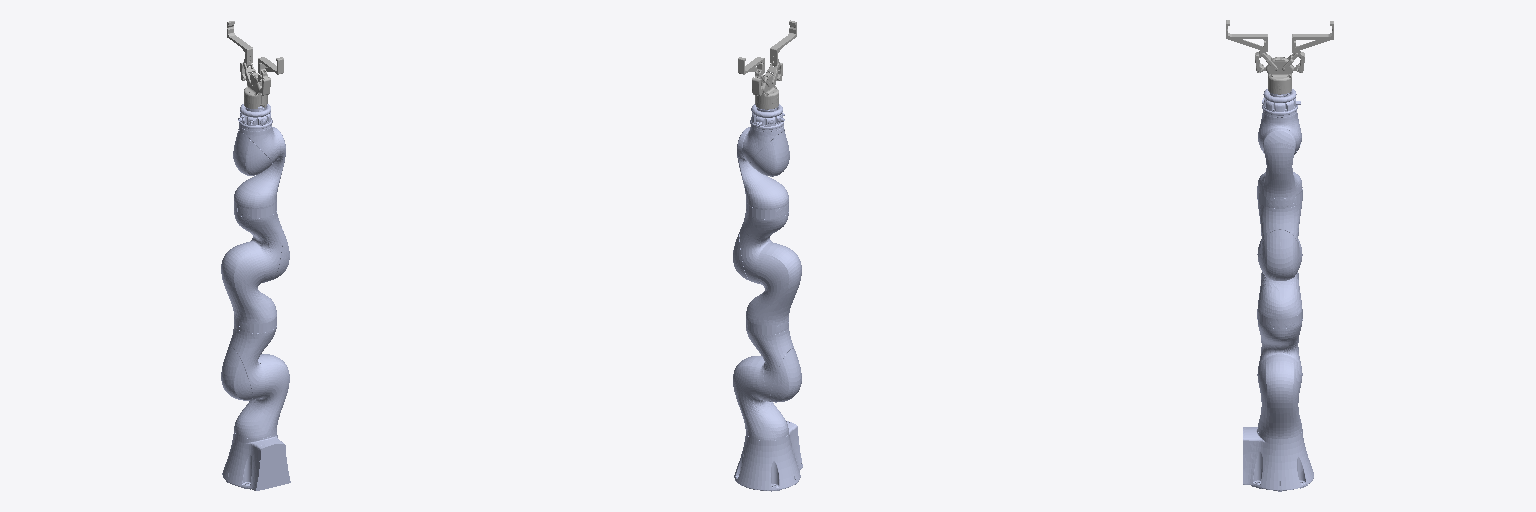
robot.urdf — KUKA_URDF_Version_5:
<?xml version="1.0" encoding="utf-8"?>
<!-- This URDF was automatically created by SolidWorks to URDF Exporter! Originally created by [author] ([email redacted]) 
     Commit Version: 1.6.0-4-g7f85cfe  Build Version: 1.6.7995.38578
     For more information, please see http://wiki.ros.org/sw_urdf_exporter -->
<robot
  name="KUKA_URDF_Version_5">
  <link
    name="base_link">
    <inertial>
      <origin
        xyz="-8.23511737919704E-07 -0.0128365621074739 0.0701068698449948"
        rpy="0 0 0" />
      <mass
        value="3.86292001643786" />
      <inertia
        ixx="0.0177650213764454"
        ixy="-1.27172130085026E-07"
        ixz="4.66194331164664E-08"
        iyy="0.0142249734163389"
        iyz="0.000612834486375344"
        izz="0.0169622498530289" />
    </inertial>
    <visual>
      <origin
        xyz="0 0 0"
        rpy="0 0 0" />
      <geometry>
        <mesh
          filename="package://KUKA_URDF_Version_5/meshes/base_link.STL" />
      </geometry>
      <material
        name="">
        <color
          rgba="0.792156862745098 0.819607843137255 0.933333333333333 1" />
      </material>
    </visual>
    <collision>
      <origin
        xyz="0 0 0"
        rpy="0 0 0" />
      <geometry>
        <mesh
          filename="package://KUKA_URDF_Version_5/meshes/base_link.STL" />
      </geometry>
    </collision>
  </link>
  <link
    name="link_1">
    <inertial>
      <origin
        xyz="-1.47182007628141E-06 -0.0347314368201785 0.123513666495531"
        rpy="0 0 0" />
      <mass
        value="2.70245661022576" />
      <inertia
        ixx="0.017086841210477"
        ixy="-2.89501394873082E-08"
        ixz="1.53941511679728E-07"
        iyy="0.0163002926165472"
        iyz="0.0030424390883859"
        izz="0.00602934030894992" />
    </inertial>
    <visual>
      <origin
        xyz="0 0 0"
        rpy="0 0 0" />
      <geometry>
        <mesh
          filename="package://KUKA_URDF_Version_5/meshes/link_1.STL" />
      </geometry>
      <material
        name="">
        <color
          rgba="0.792156862745098 0.819607843137255 0.933333333333333 1" />
      </material>
    </visual>
    <collision>
      <origin
        xyz="0 0 0"
        rpy="0 0 0" />
      <geometry>
        <mesh
          filename="package://KUKA_URDF_Version_5/meshes/link_1.STL" />
      </geometry>
    </collision>
  </link>
  <joint
    name="joint_1"
    type="continuous">
    <origin
      xyz="0 0 0.1475"
      rpy="0 0 1.5707963267949" />
    <parent
      link="base_link" />
    <child
      link="link_1" />
    <axis
      xyz="0 0 1" />
    <limit
      lower="-2.96706"
      upper="2.96706"
      effort="0"
      velocity="1.71042" />
  </joint>
  <link
    name="link_2">
    <inertial>
      <origin
        xyz="-9.85946206589125E-07 -0.0673264797866535 0.0339139236736676"
        rpy="0 0 0" />
      <mass
        value="2.72576490761316" />
      <inertia
        ixx="0.0170487827766729"
        ixy="5.60454060066105E-08"
        ixz="-1.94352744885993E-10"
        iyy="0.00609559579437958"
        iyz="-0.00283688835257612"
        izz="0.0162453385231183" />
    </inertial>
    <visual>
      <origin
        xyz="0 0 0"
        rpy="0 0 0" />
      <geometry>
        <mesh
          filename="package://KUKA_URDF_Version_5/meshes/link_2.STL" />
      </geometry>
      <material
        name="">
        <color
          rgba="0.792156862745098 0.819607843137255 0.933333333333333 1" />
      </material>
    </visual>
    <collision>
      <origin
        xyz="0 0 0"
        rpy="0 0 0" />
      <geometry>
        <mesh
          filename="package://KUKA_URDF_Version_5/meshes/link_2.STL" />
      </geometry>
    </collision>
  </link>
  <joint
    name="joint_2"
    type="continuous">
    <origin
      xyz="0 0 0.193"
      rpy="-1.5707963267949 0 0" />
    <parent
      link="link_1" />
    <child
      link="link_2" />
    <axis
      xyz="0 0 1" />
    <limit
      lower="-2.0944"
      upper="2.0944"
      effort="0"
      velocity="1.71042" />
  </joint>
  <link
    name="link_3">
    <inertial>
      <origin
        xyz="5.90496277472626E-07 0.029563717059354 0.136503448756891"
        rpy="0 0 0" />
      <mass
        value="3.1751416773228" />
      <inertia
        ixx="0.0250787626796888"
        ixy="-7.66221359011273E-08"
        ixz="-1.82817176844778E-07"
        iyy="0.0238075491469019"
        iyz="-0.00487390685916508"
        izz="0.00760816812680929" />
    </inertial>
    <visual>
      <origin
        xyz="0 0 0"
        rpy="0 0 0" />
      <geometry>
        <mesh
          filename="package://KUKA_URDF_Version_5/meshes/link_3.STL" />
      </geometry>
      <material
        name="">
        <color
          rgba="0.792156862745098 0.819607843137255 0.933333333333333 1" />
      </material>
    </visual>
    <collision>
      <origin
        xyz="0 0 0"
        rpy="0 0 0" />
      <geometry>
        <mesh
          filename="package://KUKA_URDF_Version_5/meshes/link_3.STL" />
      </geometry>
    </collision>
  </link>
  <joint
    name="joint_3"
    type="continuous">
    <origin
      xyz="0 -0.174 -0.000500000000000045"
      rpy="1.5707963267949 0 0" />
    <parent
      link="link_2" />
    <child
      link="link_3" />
    <axis
      xyz="0 0 1" />
    <limit
      lower="-2.9671"
      upper="2.9671"
      effort="0"
      velocity="1.7453" />
  </joint>
  <link
    name="link_4">
    <inertial>
      <origin
        xyz="2.85160321169215E-07 -0.0673270391679657 -0.0339138366460867"
        rpy="0 0 0" />
      <mass
        value="2.72574899351326" />
      <inertia
        ixx="0.0170488238575106"
        ixy="-6.10054669103315E-08"
        ixz="-5.7830902318856E-08"
        iyy="0.0060955422460185"
        iyz="0.00283688215271815"
        izz="0.0162452690943062" />
    </inertial>
    <visual>
      <origin
        xyz="0 0 0"
        rpy="0 0 0" />
      <geometry>
        <mesh
          filename="package://KUKA_URDF_Version_5/meshes/link_4.STL" />
      </geometry>
      <material
        name="">
        <color
          rgba="0.792156862745098 0.819607843137255 0.933333333333333 1" />
      </material>
    </visual>
    <collision>
      <origin
        xyz="0 0 0"
        rpy="0 0 0" />
      <geometry>
        <mesh
          filename="package://KUKA_URDF_Version_5/meshes/link_4.STL" />
      </geometry>
    </collision>
  </link>
  <joint
    name="joint_4"
    type="continuous">
    <origin
      xyz="0 0 0.2255"
      rpy="-1.5707963267949 0 0" />
    <parent
      link="link_3" />
    <child
      link="link_4" />
    <axis
      xyz="0 0 1" />
    <limit
      lower="-2.0944"
      upper="2.0944"
      effort="0"
      velocity="2.26893" />
  </joint>
  <link
    name="link_5">
    <inertial>
      <origin
        xyz="-0.000427104481119387 -0.021382184721028 0.0854689468847926"
        rpy="0 0 0" />
      <mass
        value="1.6938479313783" />
      <inertia
        ixx="0.010079022635319"
        ixy="-2.75052565659249E-05"
        ixz="6.17284433693558E-05"
        iyy="0.00870363537142671"
        iyz="0.00308995793269608"
        izz="0.00446948977776789" />
    </inertial>
    <visual>
      <origin
        xyz="0 0 0"
        rpy="0 0 0" />
      <geometry>
        <mesh
          filename="package://KUKA_URDF_Version_5/meshes/link_5.STL" />
      </geometry>
      <material
        name="">
        <color
          rgba="0.792156862745098 0.819607843137255 0.933333333333333 1" />
      </material>
    </visual>
    <collision>
      <origin
        xyz="0 0 0"
        rpy="0 0 0" />
      <geometry>
        <mesh
          filename="package://KUKA_URDF_Version_5/meshes/link_5.STL" />
      </geometry>
    </collision>
  </link>
  <joint
    name="joint_5"
    type="continuous">
    <origin
      xyz="0 -0.174 0.000500000000000067"
      rpy="1.5707963267949 0 0" />
    <parent
      link="link_4" />
    <child
      link="link_5" />
    <axis
      xyz="0 0 1" />
    <limit
      lower="-2.9671"
      upper="2.9671"
      effort="0"
      velocity="2.4435" />
  </joint>
  <link
    name="link_6">
    <inertial>
      <origin
        xyz="-3.62267929758693E-05 0.00212095815879487 0.000210767560785248"
        rpy="0 0 0" />
      <mass
        value="1.83671422431897" />
      <inertia
        ixx="0.00509405014866571"
        ixy="2.51774001619867E-05"
        ixz="4.01311200153297E-06"
        iyy="0.00354310566820398"
        iyz="-0.000249594236575303"
        izz="0.00489903878590526" />
    </inertial>
    <visual>
      <origin
        xyz="0 0 0"
        rpy="0 0 0" />
      <geometry>
        <mesh
          filename="package://KUKA_URDF_Version_5/meshes/link_6.STL" />
      </geometry>
      <material
        name="">
        <color
          rgba="0.792156862745098 0.819607843137255 0.933333333333333 1" />
      </material>
    </visual>
    <collision>
      <origin
        xyz="0 0 0"
        rpy="0 0 0" />
      <geometry>
        <mesh
          filename="package://KUKA_URDF_Version_5/meshes/link_6.STL" />
      </geometry>
    </collision>
  </link>
  <joint
    name="joint_6"
    type="continuous">
    <origin
      xyz="0 0 0.2255"
      rpy="1.5707963267949 0.0162613743878159 -0.0199582716554755" />
    <parent
      link="link_5" />
    <child
      link="link_6" />
    <axis
      xyz="0 0 1" />
    <limit
      lower="-2.0944"
      upper="2.0944"
      effort="0"
      velocity="3.14159" />
  </joint>
  <link
    name="link_7">
    <inertial>
      <origin
        xyz="-0.000350586782875326 0.000200324434634181 0.031832643949022"
        rpy="0 0 0" />
      <mass
        value="0.468707260148188" />
      <inertia
        ixx="0.000455200479364619"
        ixy="3.82414069564461E-07"
        ixz="4.12608825148657E-06"
        iyy="0.000456724145763562"
        iyz="3.95523025788467E-08"
        izz="0.000586696994250743" />
    </inertial>
    <visual>
      <origin
        xyz="0 0 0"
        rpy="0 0 0" />
      <geometry>
        <mesh
          filename="package://KUKA_URDF_Version_5/meshes/link_7.STL" />
      </geometry>
      <material
        name="">
        <color
          rgba="0.792156862745098 0.819607843137255 0.933333333333333 1" />
      </material>
    </visual>
    <collision>
      <origin
        xyz="0 0 0"
        rpy="0 0 0" />
      <geometry>
        <mesh
          filename="package://KUKA_URDF_Version_5/meshes/link_7.STL" />
      </geometry>
    </collision>
  </link>
  <joint
    name="joint_7"
    type="continuous">
    <origin
      xyz="-0.00130735688110192 0.0803893700559062 0.000700000000000073"
      rpy="-1.5707963267949 0.0199582716554755 0.0162613743878159" />
    <parent
      link="link_6" />
    <child
      link="link_7" />
    <axis
      xyz="0 0 1" />
    <limit
      lower="-3.0543"
      upper="3.0543"
      effort="0"
      velocity="3.1416" />
  </joint>
  <link
    name="extended_gripper_link">
    <inertial>
      <origin
        xyz="0.0483430560044756 0.062208572618075 0.130786209524131"
        rpy="0 0 0" />
      <mass
        value="0.454193206646649" />
      <inertia
        ixx="0.000255516641384785"
        ixy="1.57776442646039E-07"
        ixz="-9.06555559420314E-09"
        iyy="0.000385316223508459"
        iyz="1.78449531458031E-06"
        izz="0.00046456518327599" />
    </inertial>
    <visual>
      <origin
        xyz="0 0 0"
        rpy="0 0 0" />
      <geometry>
        <mesh
          filename="package://KUKA_URDF_Version_5/meshes/extended_gripper_link.STL" />
      </geometry>
      <material
        name="">
        <color
          rgba="0.752941176470588 0.752941176470588 0.752941176470588 1" />
      </material>
    </visual>
    <collision>
      <origin
        xyz="0 0 0"
        rpy="0 0 0" />
      <geometry>
        <mesh
          filename="package://KUKA_URDF_Version_5/meshes/extended_gripper_link.STL" />
      </geometry>
    </collision>
  </link>
  <joint
    name="extended_gripper_joint"
    type="fixed">
    <origin
      xyz="-0.0481741127604408 0.130690688279842 0.0853977018208851"
      rpy="1.5707963267949 0 0" />
    <parent
      link="link_7" />
    <child
      link="extended_gripper_link" />
    <axis
      xyz="0 0 0" />
  </joint>
</robot>

--- What the picture shows (computed from the rendered views, not written in the file) ---
3 views of the same robot in one strip: view 1: azimuth 30°, elevation 25°; view 2: azimuth 150°, elevation 25°; view 3: azimuth 270°, elevation 25° (orthographic).
Model KUKA_URDF_Version_5 with 9 links and 8 joints (7 continuous, 1 fixed), rooted at base_link, posed all joints at 0.
Links seen in each view (by area): view 1: link_3, base_link, link_2, link_1, link_5, link_4, link_6, extended_gripper_link, link_7; view 2: link_3, base_link, link_2, link_1, link_5, link_4, link_6, extended_gripper_link, link_7; view 3: base_link, link_1, link_4, link_5, extended_gripper_link, link_3, link_2, link_7, link_6.
Link boxes in pixels (x1=…): link_3: x1=221, y1=241, x2=276, y2=333; base_link: x1=222, y1=432, x2=290, y2=490; link_2: x1=221, y1=326, x2=276, y2=400; link_1: x1=234, y1=354, x2=289, y2=438; link_5: x1=234, y1=127, x2=285, y2=218; link_4: x1=234, y1=211, x2=289, y2=282; link_6: x1=233, y1=126, x2=279, y2=175; extended_gripper_link: x1=227, y1=21, x2=283, y2=108; link_7: x1=238, y1=104, x2=272, y2=130; link_3: x1=746, y1=242, x2=801, y2=334; base_link: x1=734, y1=421, x2=802, y2=491; link_2: x1=746, y1=328, x2=801, y2=402; link_1: x1=733, y1=356, x2=788, y2=440; link_5: x1=737, y1=127, x2=788, y2=219; link_4: x1=733, y1=212, x2=788, y2=284; link_6: x1=742, y1=126, x2=789, y2=176; extended_gripper_link: x1=738, y1=20, x2=796, y2=109; link_7: x1=750, y1=104, x2=784, y2=131; base_link: x1=1243, y1=427, x2=1313, y2=491; link_1: x1=1257, y1=354, x2=1302, y2=438; link_4: x1=1257, y1=199, x2=1302, y2=280; link_5: x1=1257, y1=128, x2=1302, y2=208; extended_gripper_link: x1=1226, y1=20, x2=1333, y2=94; link_3: x1=1257, y1=239, x2=1302, y2=328; link_2: x1=1257, y1=319, x2=1302, y2=368; link_7: x1=1262, y1=89, x2=1300, y2=117; link_6: x1=1258, y1=112, x2=1301, y2=154.
Size in the robot's own frame: 0.2287 by 0.3283 by 1.51 metres.
Meshes: 9 distinct files referenced, 9 mesh visuals loaded (9 binary STL).